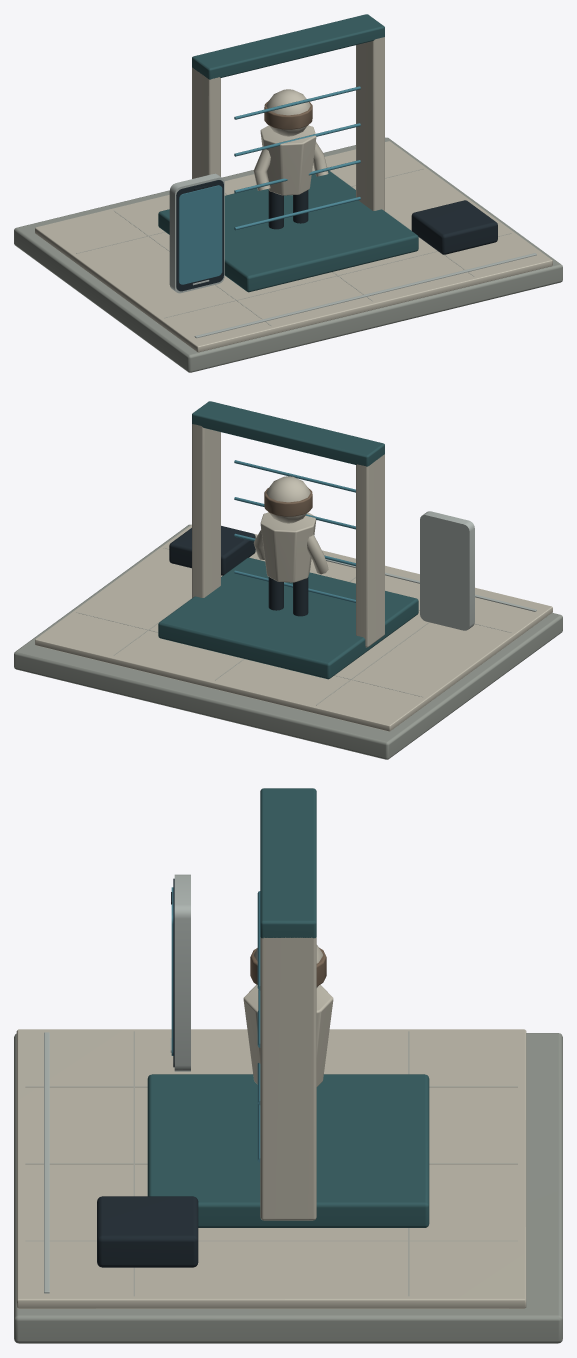
File: idea-ebaa9c8d.glb
3 views of the same model, one above another, from view 1: azimuth 30°, elevation 25°; view 2: azimuth 150°, elevation 25°; view 3: azimuth 270°, elevation 25° (orthographic). The views are drawn at different scales.
Parts seen in each view (by area): view 1: Karmic Body Metrics; view 2: Karmic Body Metrics; view 3: Karmic Body Metrics.
Part boxes in pixels (x1,y1,x2,y2): Karmic Body Metrics: (14,14,562,372); Karmic Body Metrics: (14,401,562,759); Karmic Body Metrics: (14,788,562,1343).
Size of the model in its own units: 4.8 by 2.73 by 3.9.
